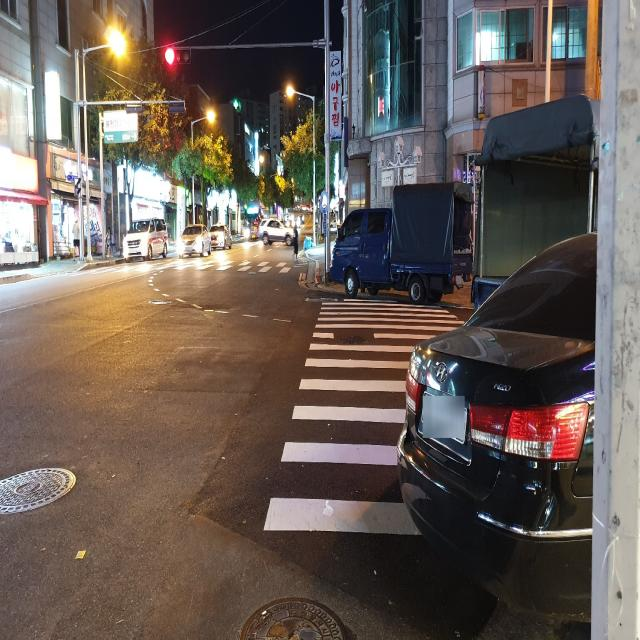횡단보도: (262, 294, 464, 539), (110, 249, 292, 278)
